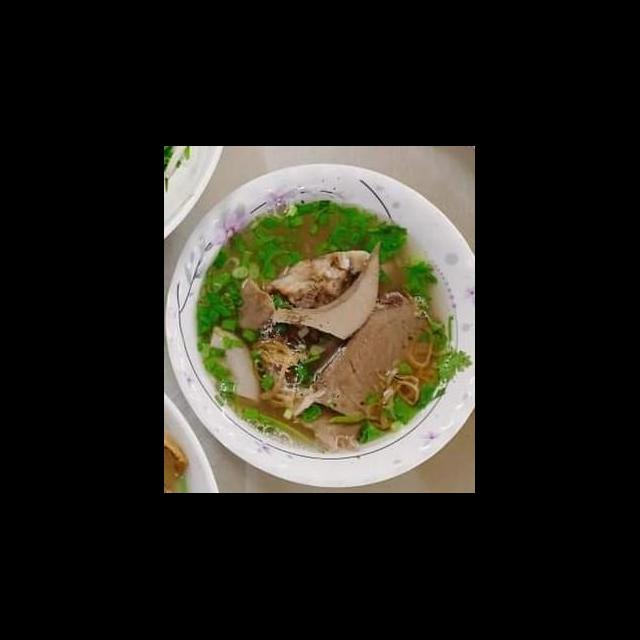gan: (306, 286, 441, 426), (262, 236, 390, 344)
